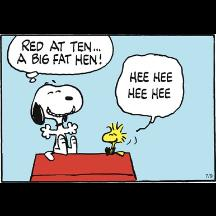snoopy: (31, 79, 84, 161)
